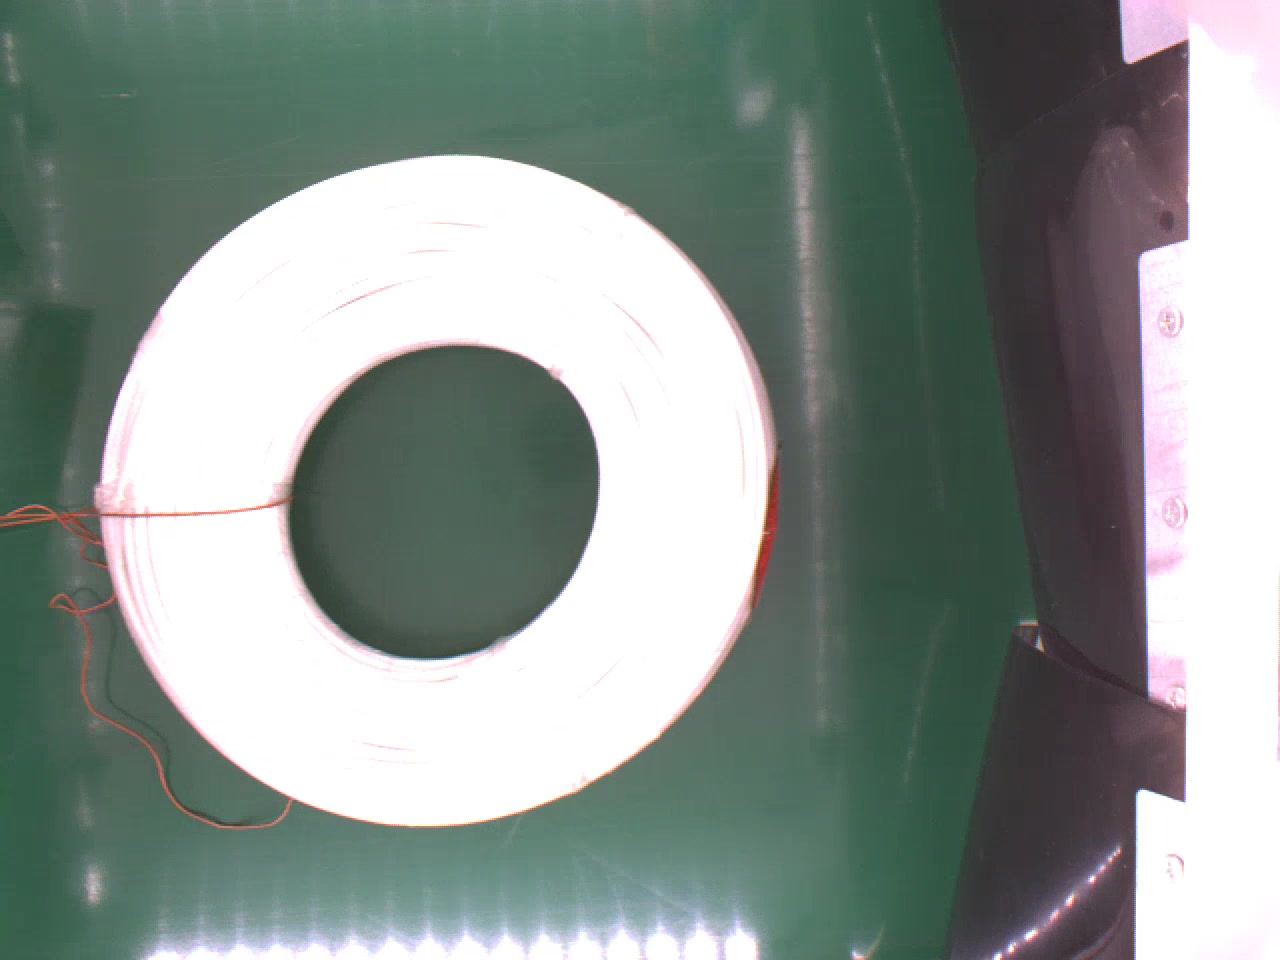white: (98, 142, 765, 823)
